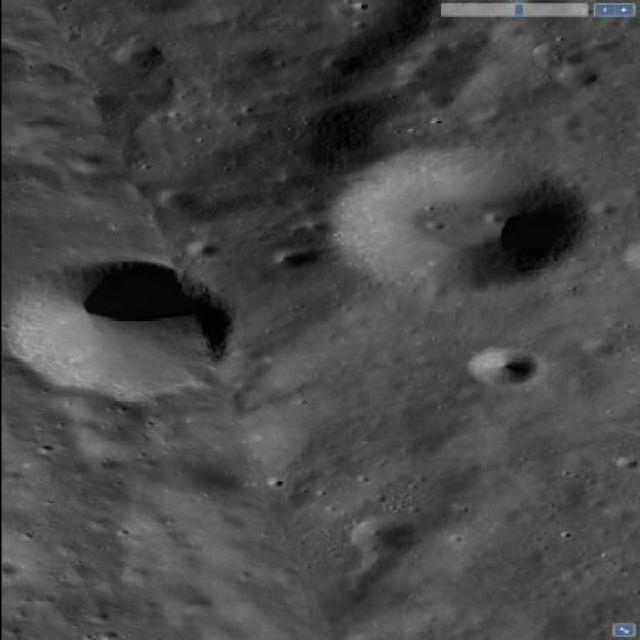crater: (329, 144, 582, 296), (2, 260, 230, 398), (468, 349, 542, 389)
